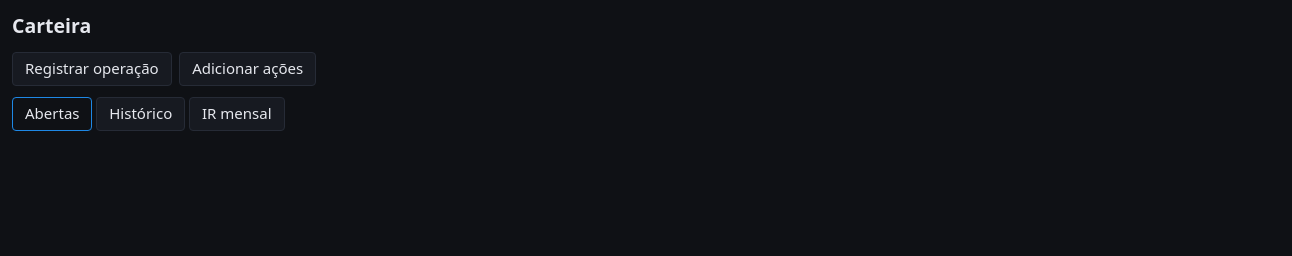
Test case: o histórico traz as encerradas com os eventos
Click the tab "Histórico": (141, 114) top-left (96, 97), bottom-right (185, 131)
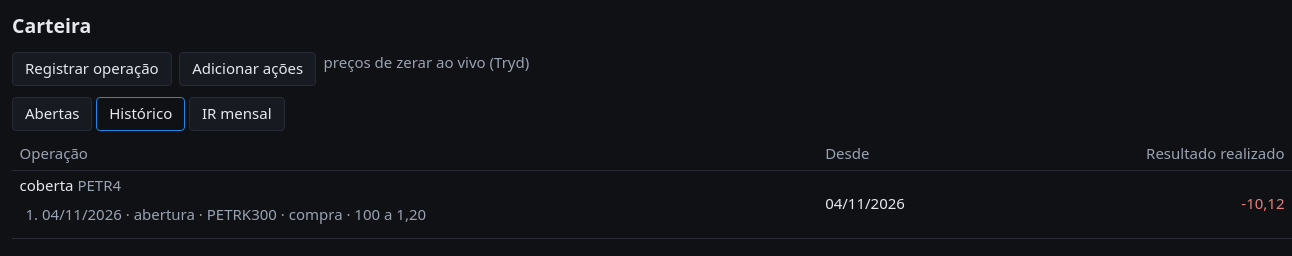
Expected: the text "coberta" is shown, top-left (20, 175), bottom-right (74, 195)
Expected: the list item "04/11/2026 · abertura · PETRK300 · compra · 100 a 1,20" is shown, top-left (42, 204), bottom-right (426, 224)
